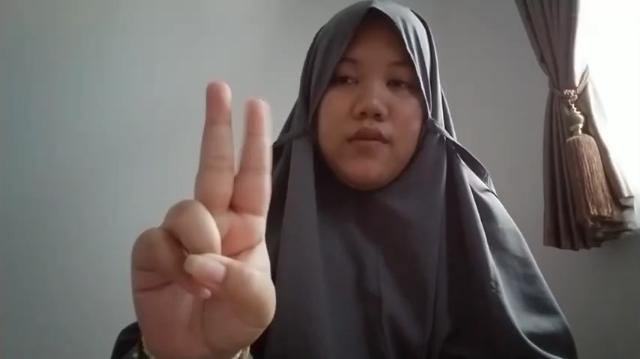U: (124, 72, 287, 359)
